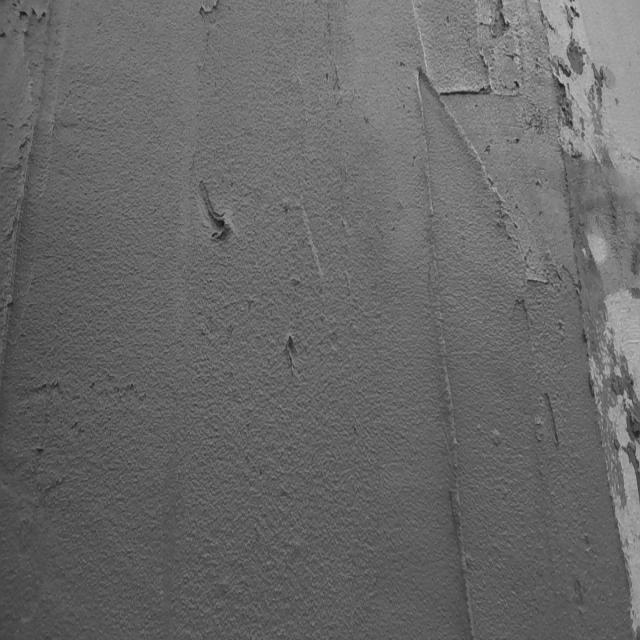trowels marks: (418, 76, 476, 640), (5, 85, 43, 398)
